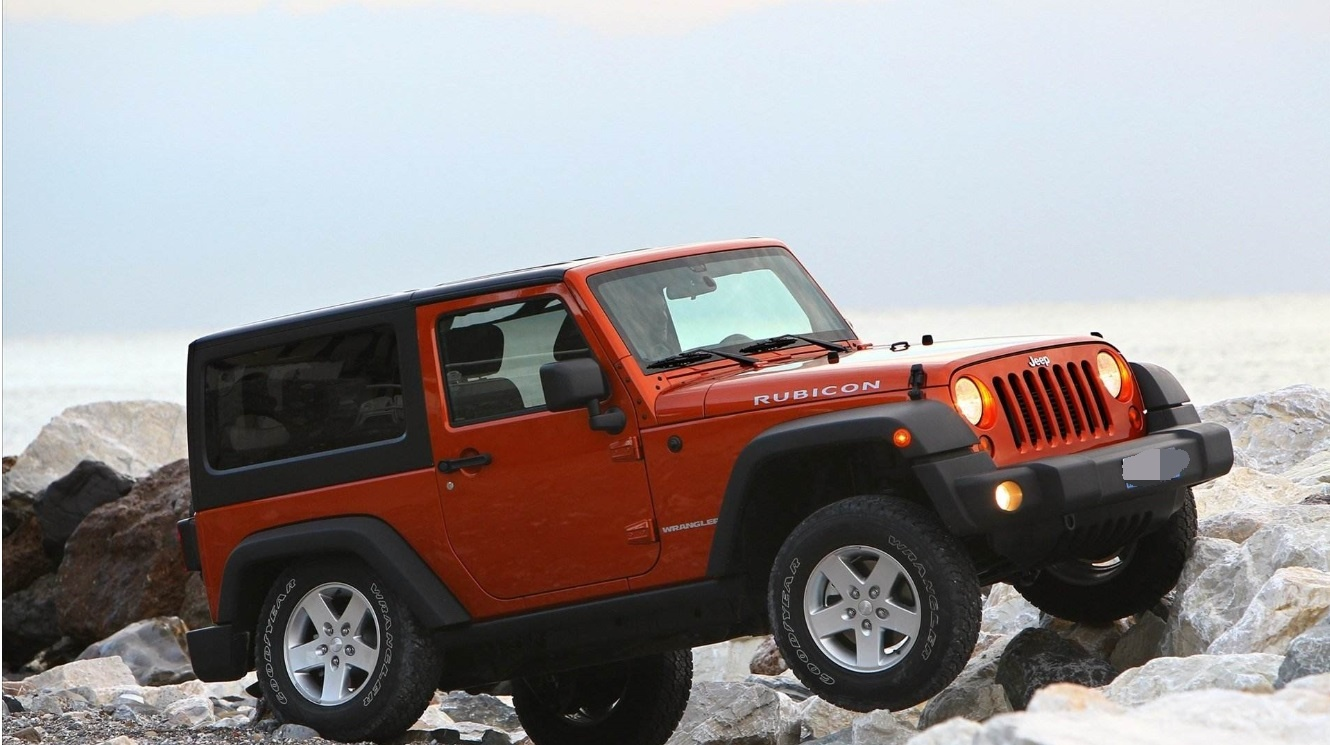jeep: (149, 229, 1215, 717)
